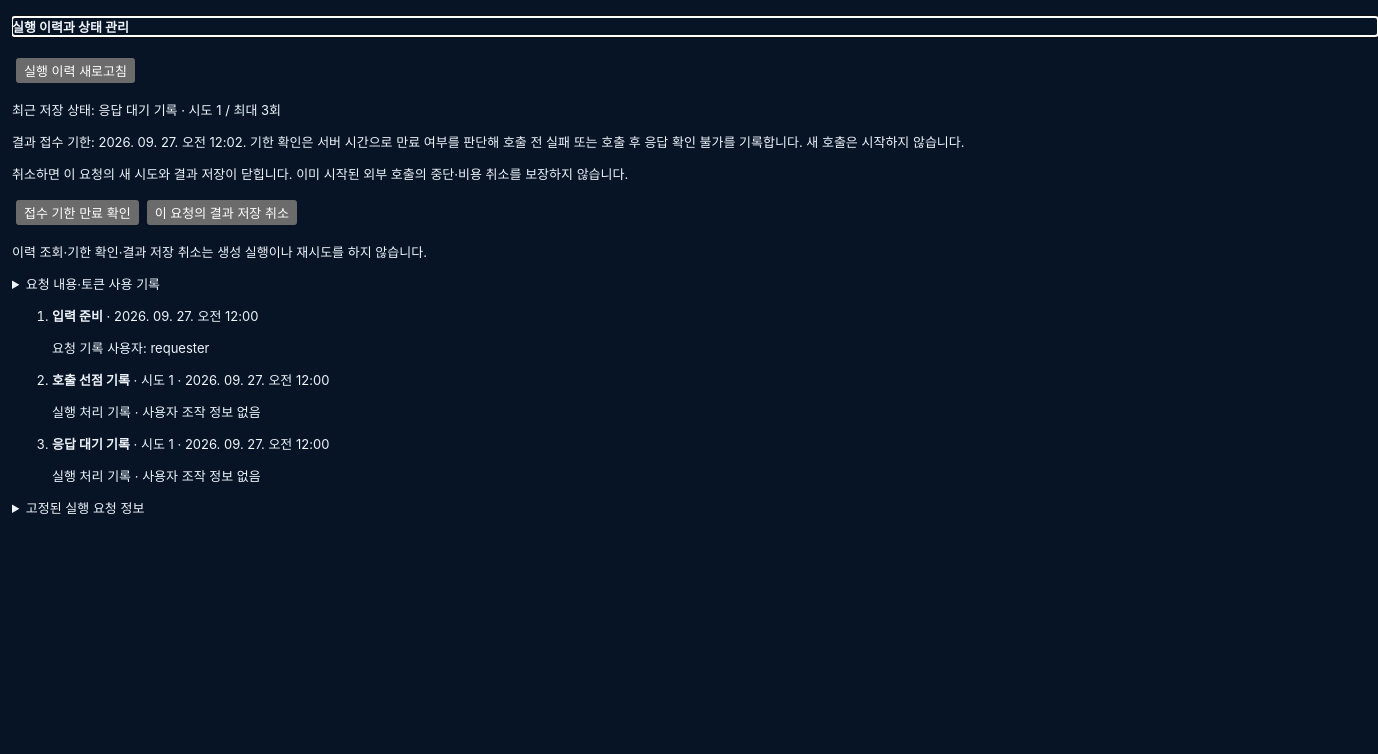
Test: reads preserved inputs without another request and hides them if history refresh fails
Expected: the text "최근 저장 상태: 응답 대기 기록 · 시도 1 / 최대 3회" is shown, [12,102,281,118]
Click the heading "요청 내용·토큰 사용 기록".
click(93, 284)  # box [26,276,160,292]
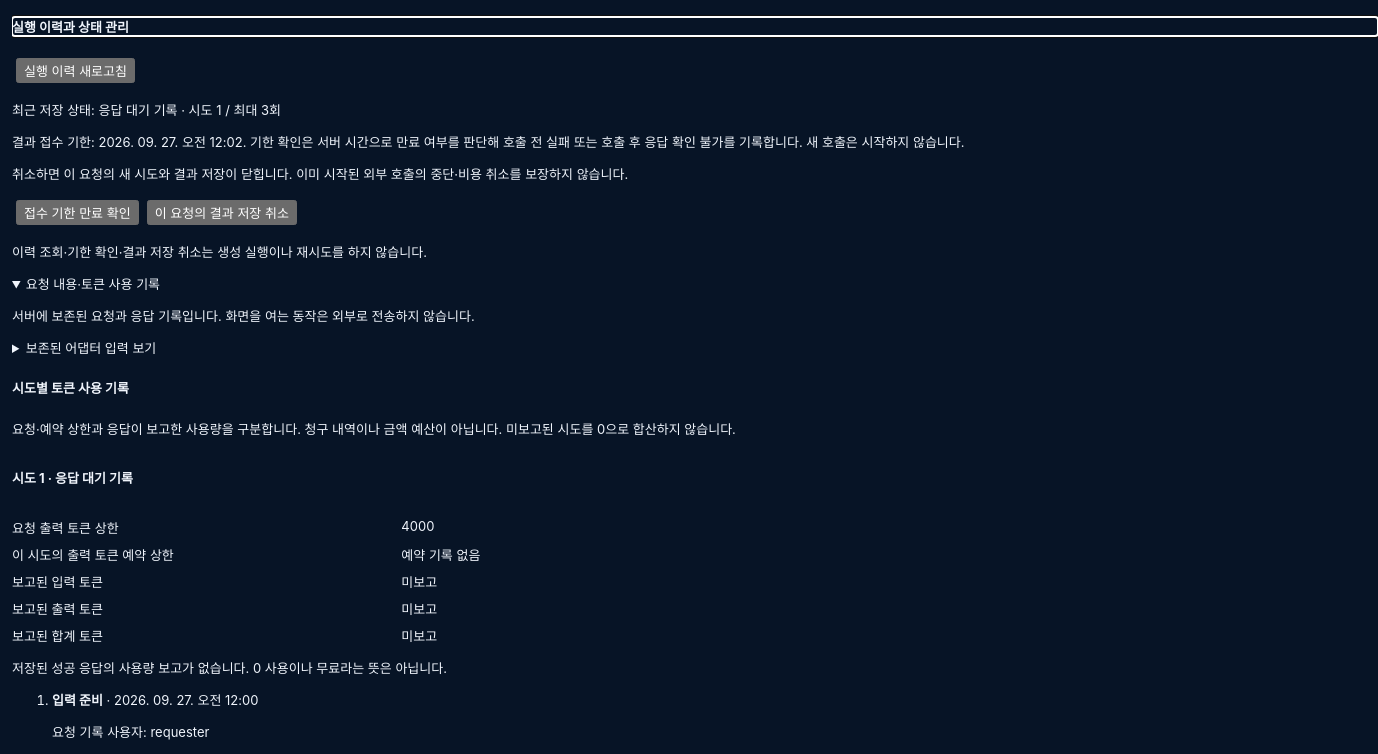
Click the heading "보존된 어댑터 입력 보기".
click(91, 348)  # box [26,340,156,356]
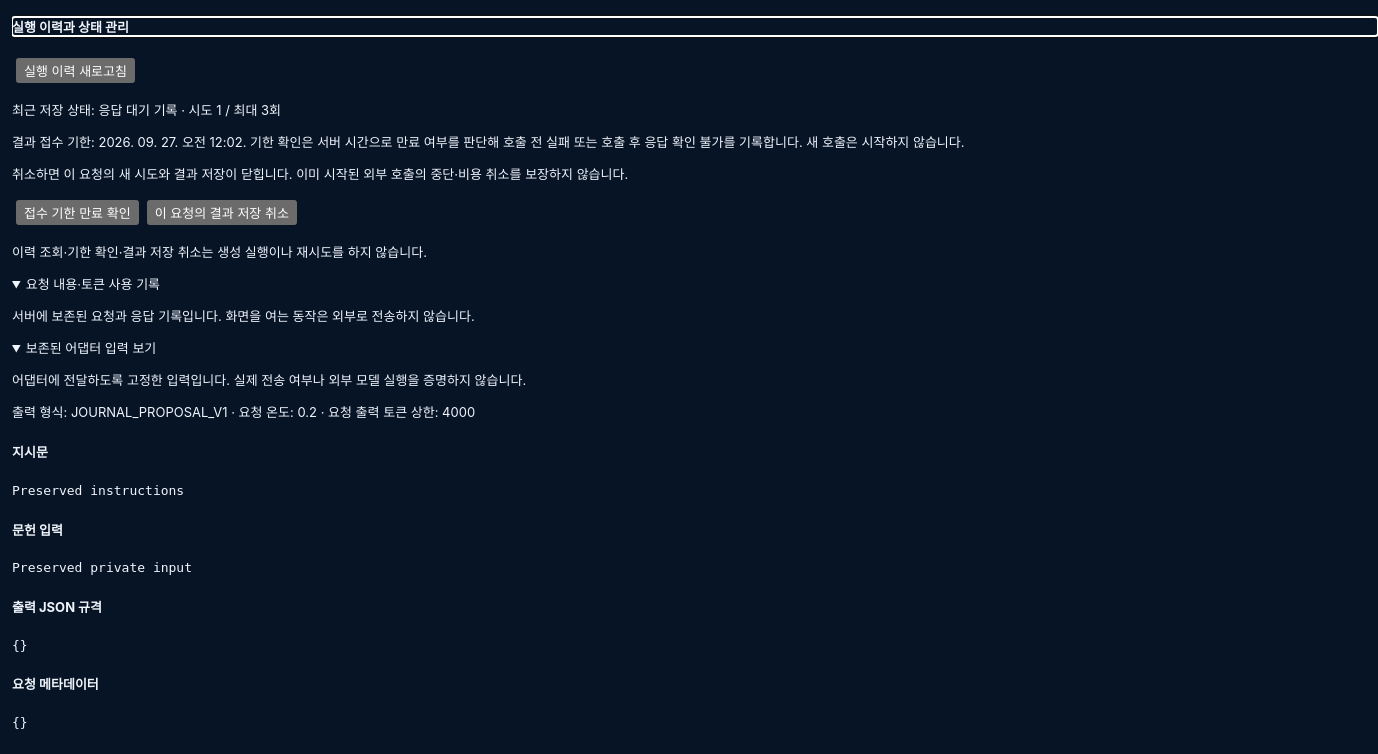
Result: the text named "보존된 문헌 입력" reads "Preserved private input" at [12,560,192,575]
Click the button "실행 이력 새로고침".
click(76, 70)  # box [16,58,135,83]
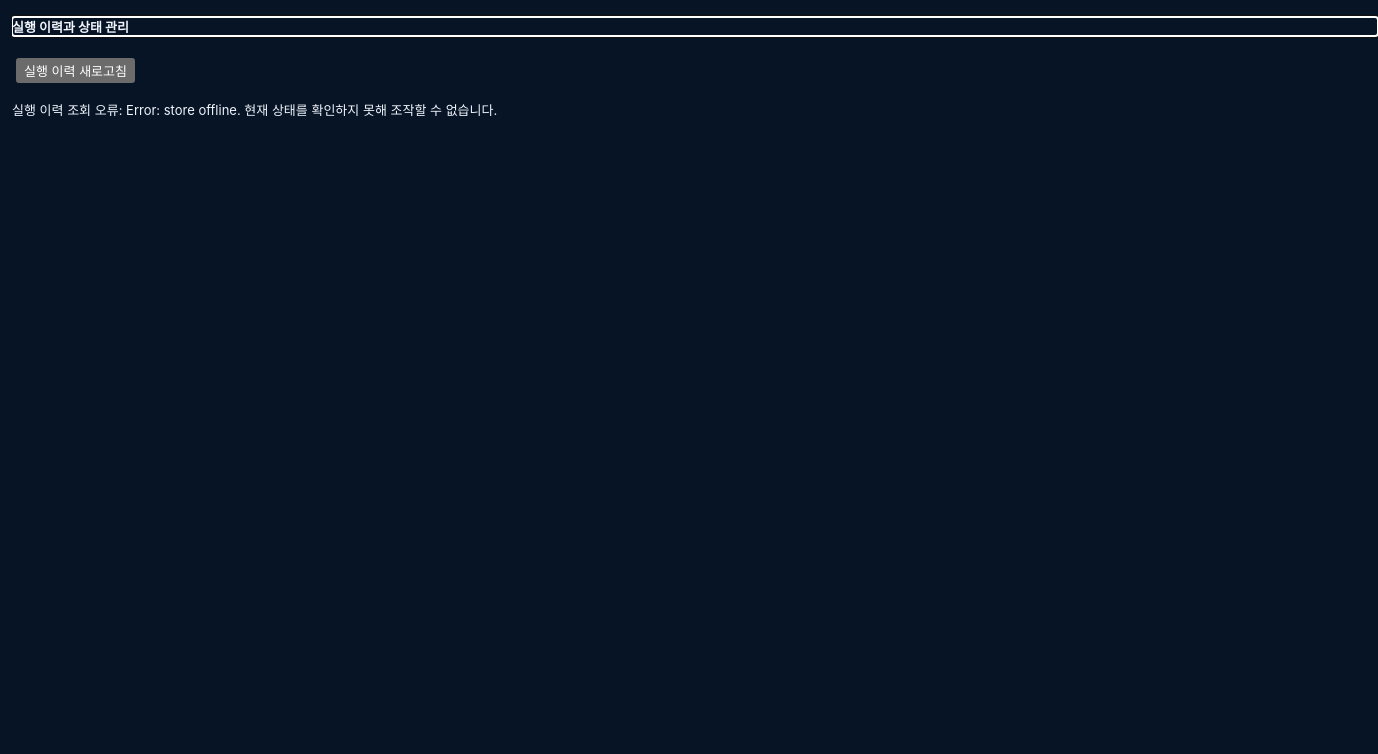
Result: the text "실행 이력 조회 오류: Error: store offline. 현재 상태를 확인하지 못해 조작할 수 없습니다." is shown at [12,102,497,118]
Result: the text "Preserved private input" is gone
Result: the heading "요청 내용·토큰 사용 기록" is gone
